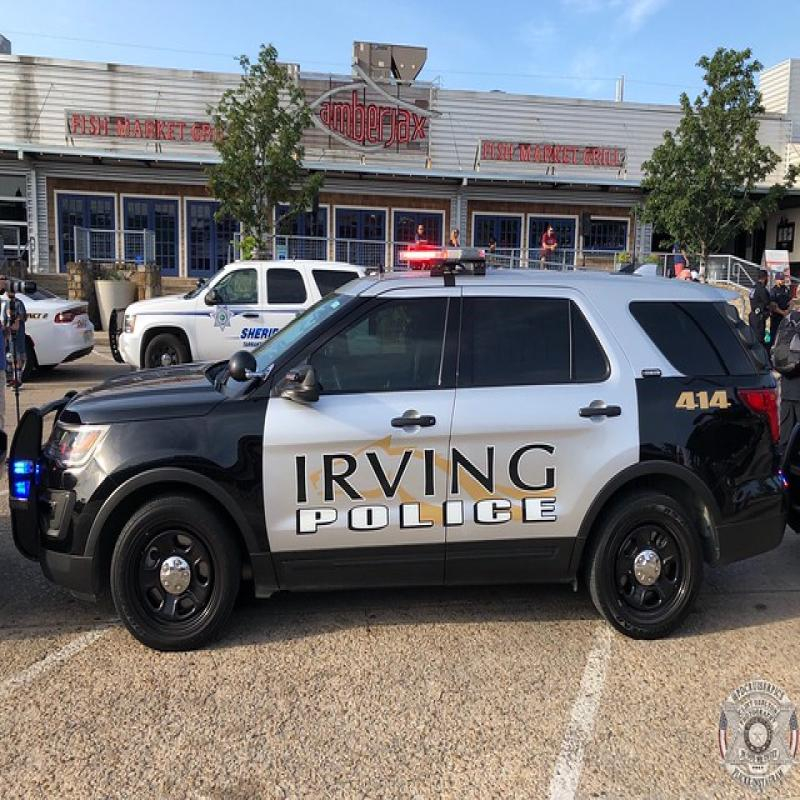AmbulanceSiren: (380, 240, 493, 275)
